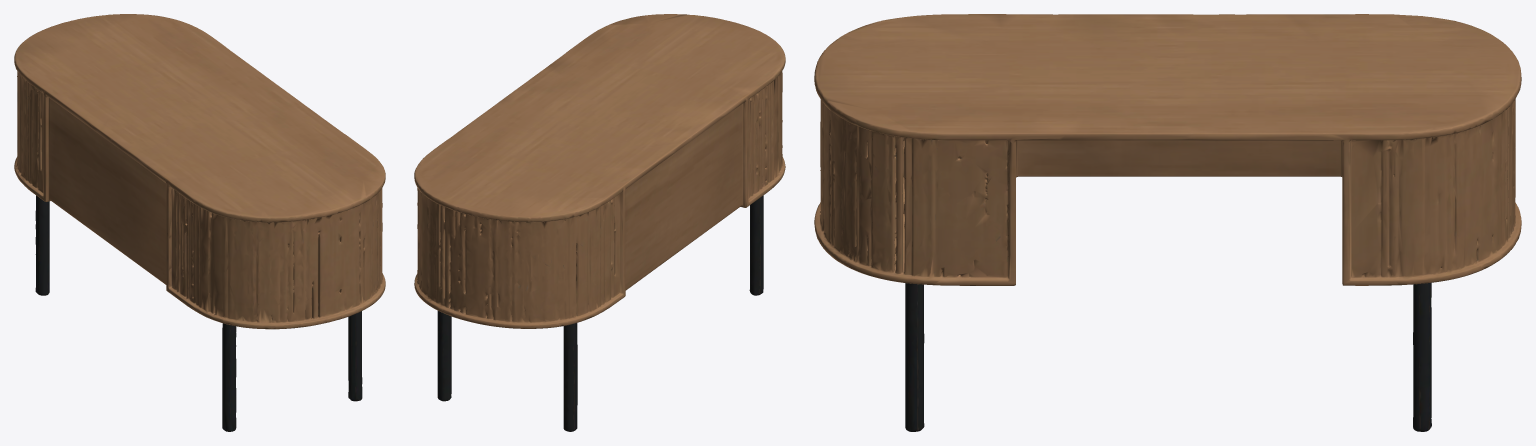
Rendered from oval-reeded-oak-desk.glb.
3 renders of one model, left to right at view 1: azimuth 30°, elevation 25°; view 2: azimuth 150°, elevation 25°; view 3: azimuth 270°, elevation 25°, orthographic. The views are drawn at different scales.
Visible parts, largest first — view 1: world; view 2: world; view 3: world.
Boxes of the visible parts, left/top/right/bottom form: world: left=14, top=14, right=385, bottom=431; world: left=414, top=14, right=785, bottom=431; world: left=814, top=14, right=1521, bottom=431.
Size of the model in its own units: 0.4038 by 0.4922 by 1.
1 material, 1 textured.
